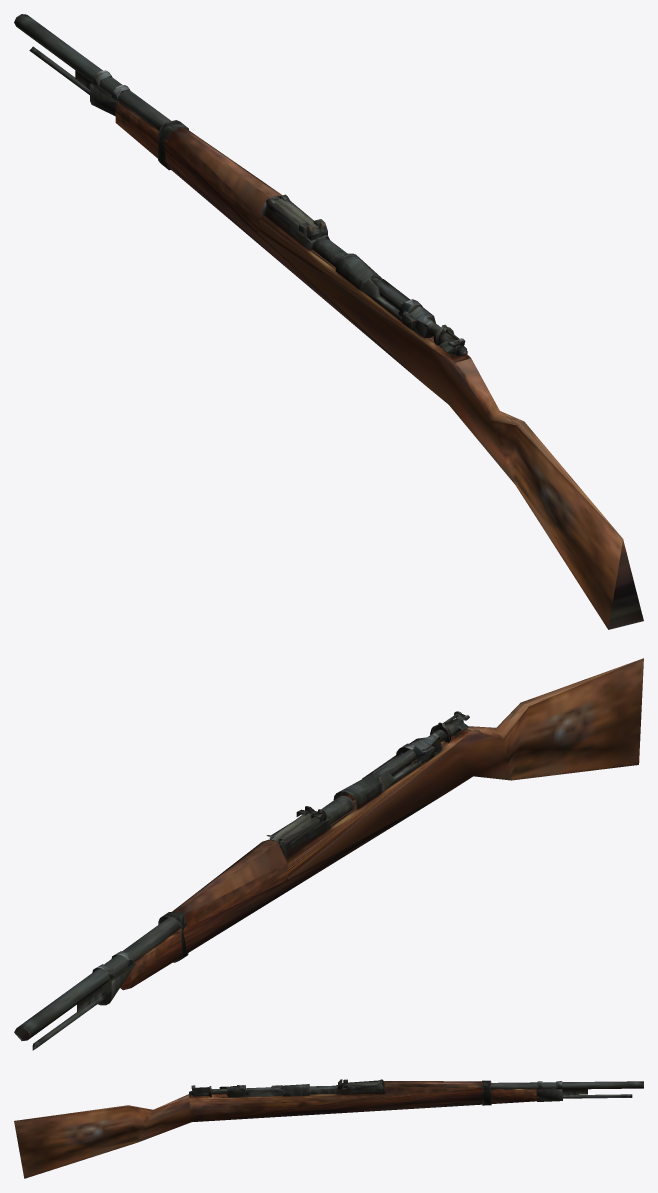
The model's file is mortyr_rifle.FBX.
The picture shows the model from 3 angles, top to bottom: view 1: azimuth 30°, elevation 25°; view 2: azimuth 150°, elevation 25°; view 3: azimuth 270°, elevation 25°; orthographic projection. The views are drawn at different scales.
Visible parts, largest first — view 1: mortyr_rifle; view 2: mortyr_rifle; view 3: mortyr_rifle.
Boxes of the visible parts, x1,y1,x2,y2 form: mortyr_rifle: (14, 14, 643, 629); mortyr_rifle: (14, 658, 643, 1050); mortyr_rifle: (14, 1079, 643, 1178).
Size of the model in its own units: 1.81 by 50.54 by 8.17.
